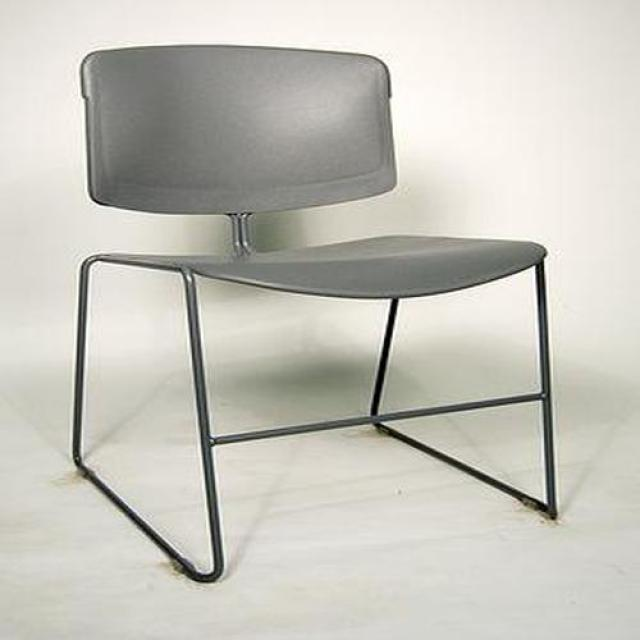chair: (70, 45, 558, 586)
